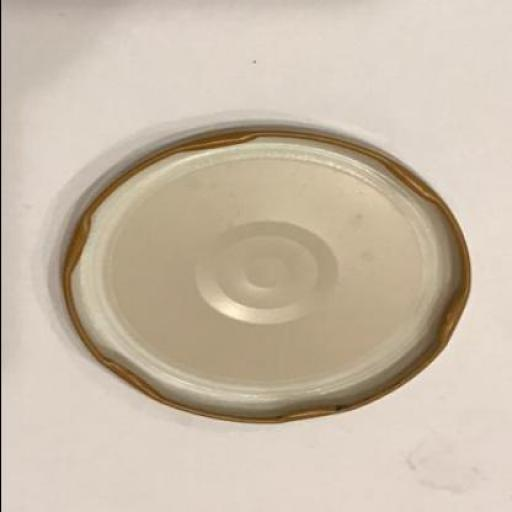metal: (65, 130, 473, 428)
